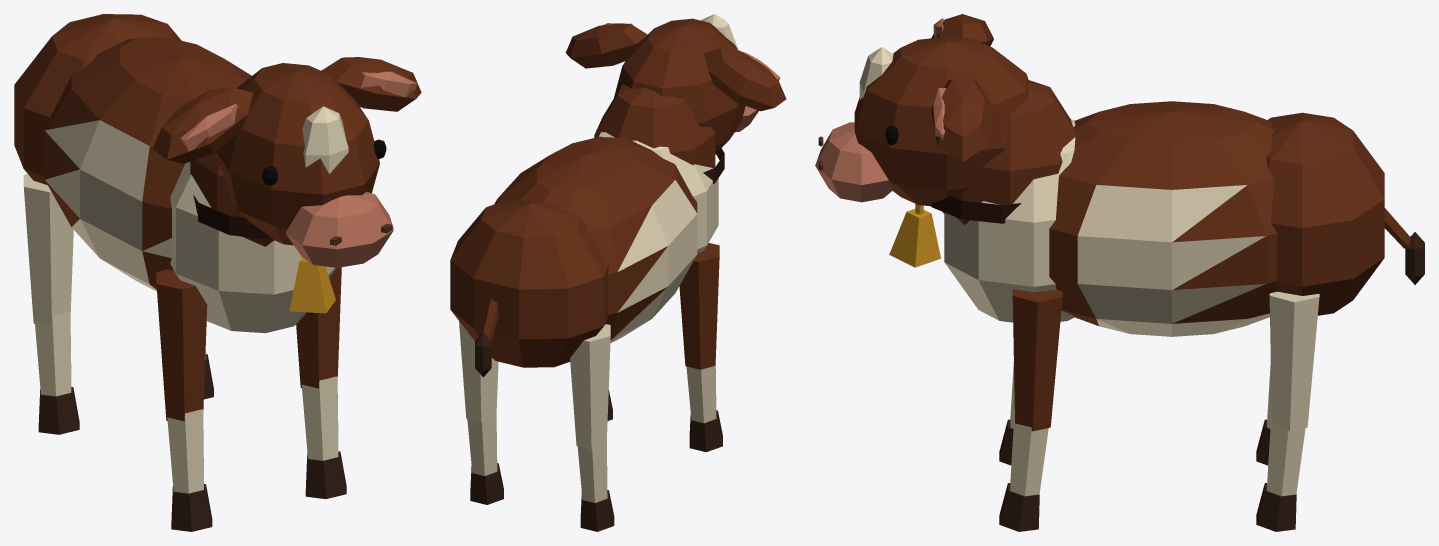
The model's file is Calf.obj.
3 views of the same model, side by side, from view 1: azimuth 30°, elevation 25°; view 2: azimuth 150°, elevation 25°; view 3: azimuth 270°, elevation 25° (orthographic). The views are drawn at different scales.
Visible parts, largest first — view 1: Body, Head, UpperLeg, Chest, Rump, LowerLeg, Ear, Muzzle, Hoof, FaceBlaze, InnerEar, Bell (+2 smaller); view 2: Rump, Body, UpperLeg, Head, Ear, Neck, LowerLeg, Hoof, Chest, TailTuft, TailStem; view 3: Body, Rump, Head, UpperLeg, Chest, Neck, LowerLeg, Ear, Hoof, Muzzle, Bell, Collar (+2 smaller).
Part boxes in pixels (bbox=[...]): Body: bbox=[44, 36, 251, 291]; Head: bbox=[214, 63, 379, 245]; UpperLeg: bbox=[23, 174, 341, 421]; Chest: bbox=[170, 162, 336, 333]; Rump: bbox=[14, 14, 181, 184]; LowerLeg: bbox=[34, 312, 338, 493]; Ear: bbox=[152, 57, 421, 163]; Muzzle: bbox=[285, 191, 393, 267]; Hoof: bbox=[38, 354, 346, 531]; FaceBlaze: bbox=[302, 106, 348, 173]; InnerEar: bbox=[181, 71, 417, 151]; Bell: bbox=[289, 257, 335, 313]; Rump: bbox=[450, 199, 608, 367]; Body: bbox=[494, 137, 697, 343]; UpperLeg: bbox=[459, 243, 719, 449]; Head: bbox=[614, 18, 745, 153]; Ear: bbox=[565, 23, 786, 111]; Neck: bbox=[594, 84, 715, 167]; LowerLeg: bbox=[467, 366, 716, 502]; Hoof: bbox=[470, 389, 722, 531]; Chest: bbox=[598, 132, 718, 253]; TailTuft: bbox=[475, 332, 491, 377]; TailStem: bbox=[482, 299, 498, 340]; Body: bbox=[1049, 101, 1277, 336]; Rump: bbox=[1266, 112, 1384, 315]; Head: bbox=[854, 36, 1028, 206]; UpperLeg: bbox=[1012, 289, 1319, 431]; Chest: bbox=[944, 118, 1075, 322]; Neck: bbox=[943, 80, 1076, 225]; LowerLeg: bbox=[1010, 362, 1305, 496]; Ear: bbox=[931, 14, 993, 162]; Hoof: bbox=[999, 419, 1296, 531]; Muzzle: bbox=[815, 122, 892, 202]; Bell: bbox=[889, 209, 940, 267]; Collar: bbox=[931, 196, 1021, 223].
Size of the model in its own units: 0.7408 by 1.26 by 1.54.
